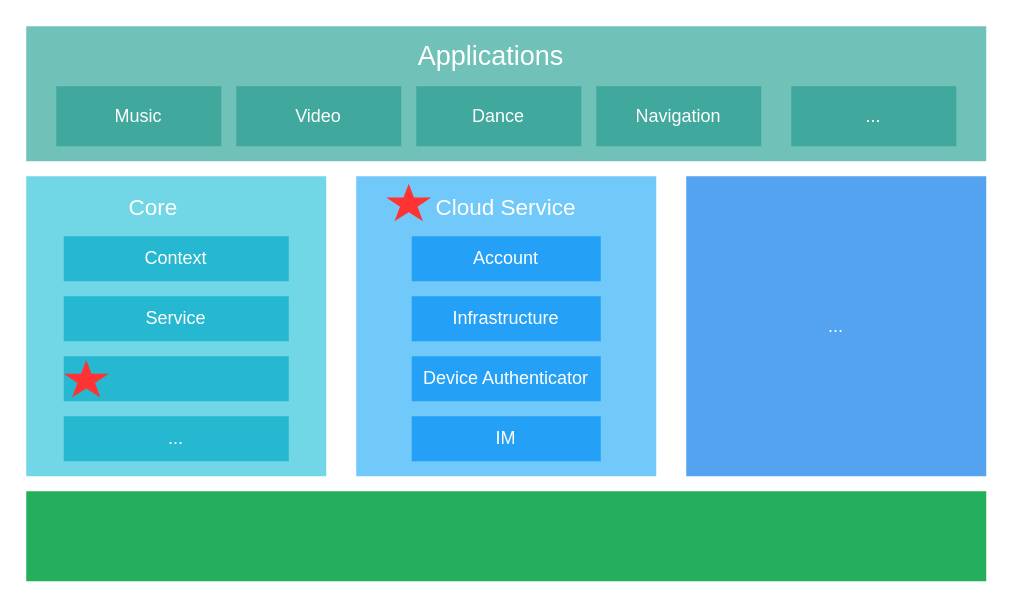
Image size: 1011x606. Some labels were removed from this diagram. The shapes that lost their labels are listed below. From the top down, each one's box as (x1, y1, x2, y2) in pixels, then its label:
(63, 356, 288, 400): User Service
(26, 490, 986, 580): Android
